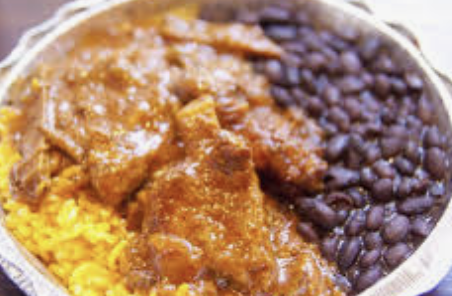sushi: (1, 1, 451, 291)
